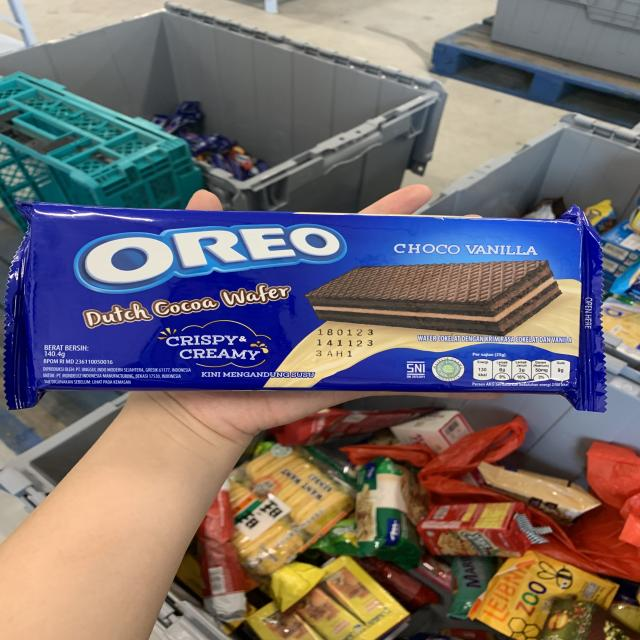object_name: (26, 215, 593, 394)
